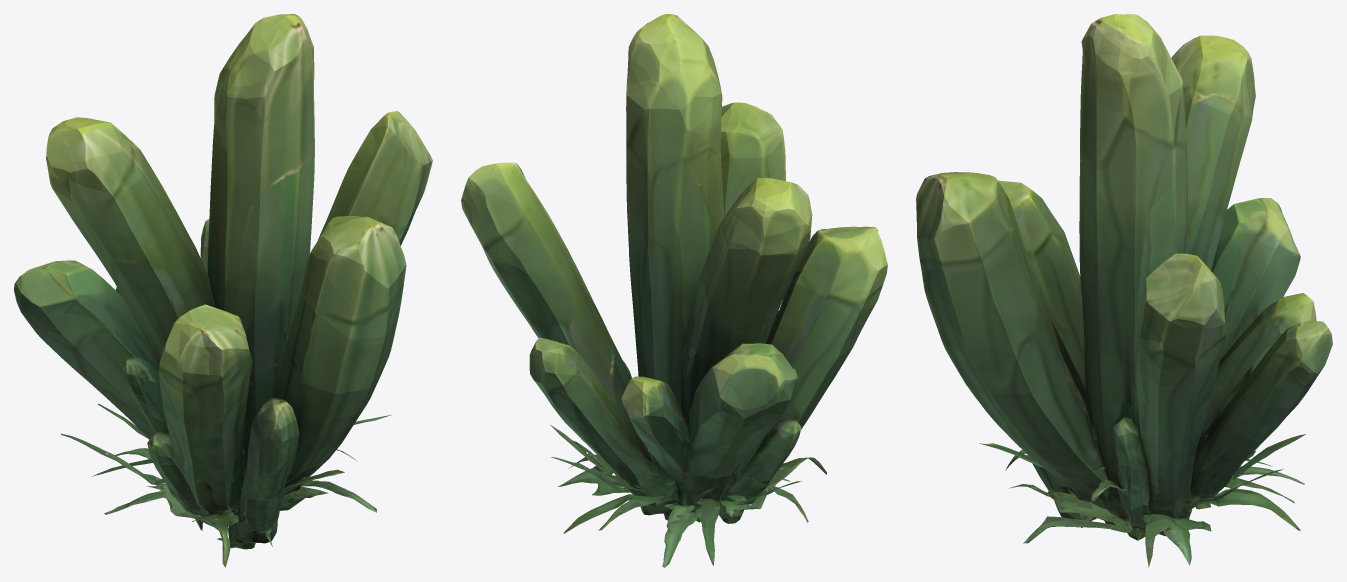
Rendered from BloomD.fbx.
The picture shows the model from 3 angles, left to right: view 1: azimuth 30°, elevation 25°; view 2: azimuth 150°, elevation 25°; view 3: azimuth 270°, elevation 25°; orthographic projection. The views are drawn at different scales.
Parts seen in each view (by area): view 1: temp; view 2: temp; view 3: temp.
Boxes of the visible parts, x1=… form: temp: x1=14, y1=14, x2=432, y2=567; temp: x1=461, y1=14, x2=887, y2=567; temp: x1=916, y1=14, x2=1332, y2=567.
Size of the model in its own units: 151 by 199 by 140.
1 material, 1 textured.
